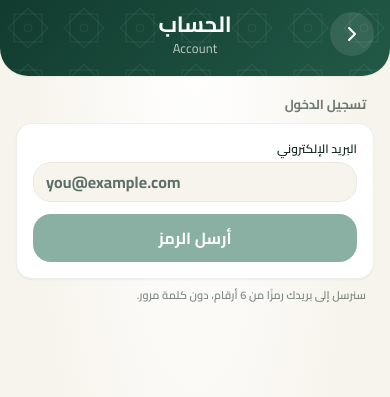
Scenario: sending the code › sends through accountAuth.sendEmailOtp, then asks for the code
The width and height of the screenshot is (390, 397).
Type "User@Example.com " into the field labelled "البريد الإلكتروني" at [195, 182], box [33, 162, 357, 202]
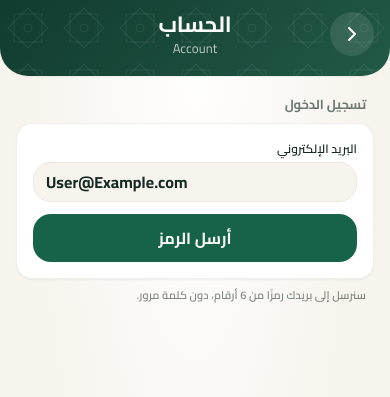
Click the button "أرسل الرمز" at [195, 238], box [33, 214, 357, 262]
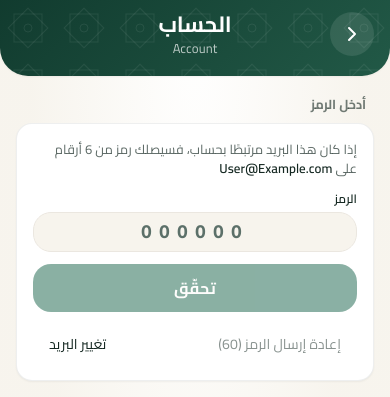
Result: the field labelled "الرمز" is shown at [33, 212, 357, 252]
Result: the text "User@Example.com" is shown at [219, 156, 333, 180]
